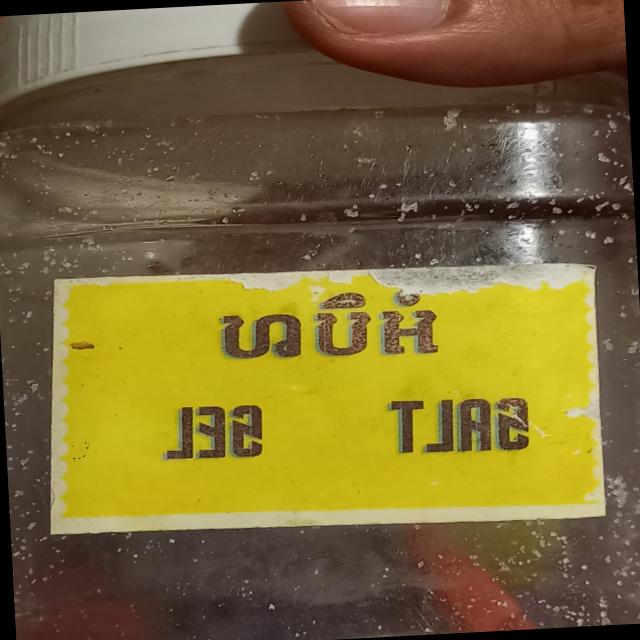Yolov11kh: (205, 280, 453, 373)
